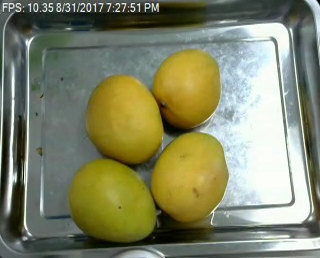Mango: (69, 159, 155, 239), (152, 133, 230, 220), (83, 74, 162, 159), (155, 48, 221, 128)
